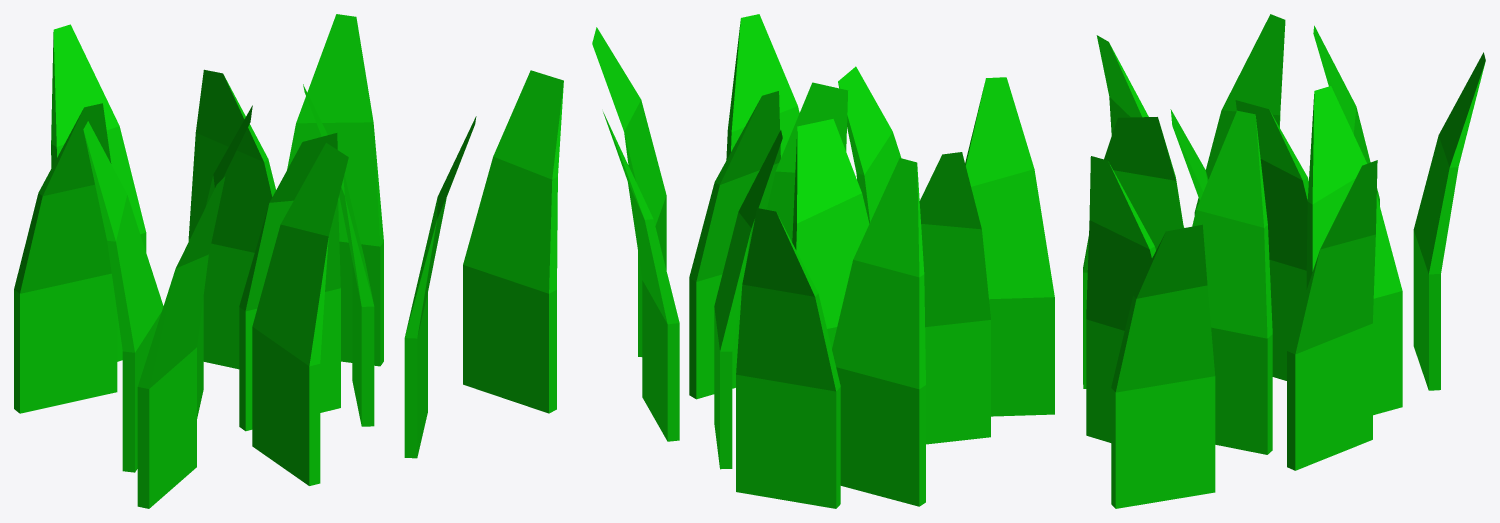
File: Grass#1.fbx
3 views of the same model, side by side, from view 1: azimuth 30°, elevation 25°; view 2: azimuth 150°, elevation 25°; view 3: azimuth 270°, elevation 25° (orthographic). The views are drawn at different scales.
Parts seen in each view (by area): view 1: Grass#1; view 2: Grass#1; view 3: Grass#1.
Part boxes in pixels (box(x1,y1,x2,y2)): Grass#1: box(14, 14, 563, 508); Grass#1: box(592, 14, 1054, 508); Grass#1: box(1083, 14, 1485, 508).
Bounding box in the file's own units: 38.17 × 25.92 × 30.68.
